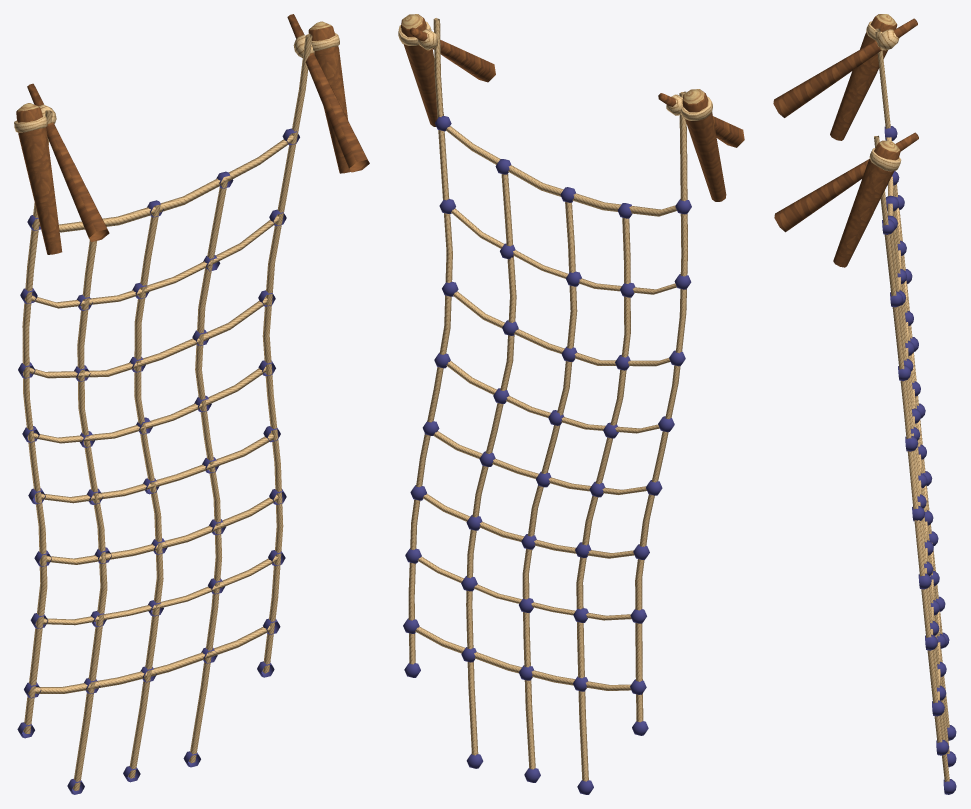
File: ClimbingRope.fbx
3 renders of one model, left to right at view 1: azimuth 30°, elevation 25°; view 2: azimuth 150°, elevation 25°; view 3: azimuth 270°, elevation 25°, orthographic. The views are drawn at different scales.
Parts seen in each view (by area): view 1: ClimbingRope; view 2: ClimbingRope; view 3: ClimbingRope.
Boxes of the visible parts, box(x1,y1,x2,y2) form: ClimbingRope: box(14, 14, 369, 794); ClimbingRope: box(398, 14, 744, 794); ClimbingRope: box(773, 14, 956, 794).
Bounding box in the file's own units: 39.7 × 87.09 × 20.72.
